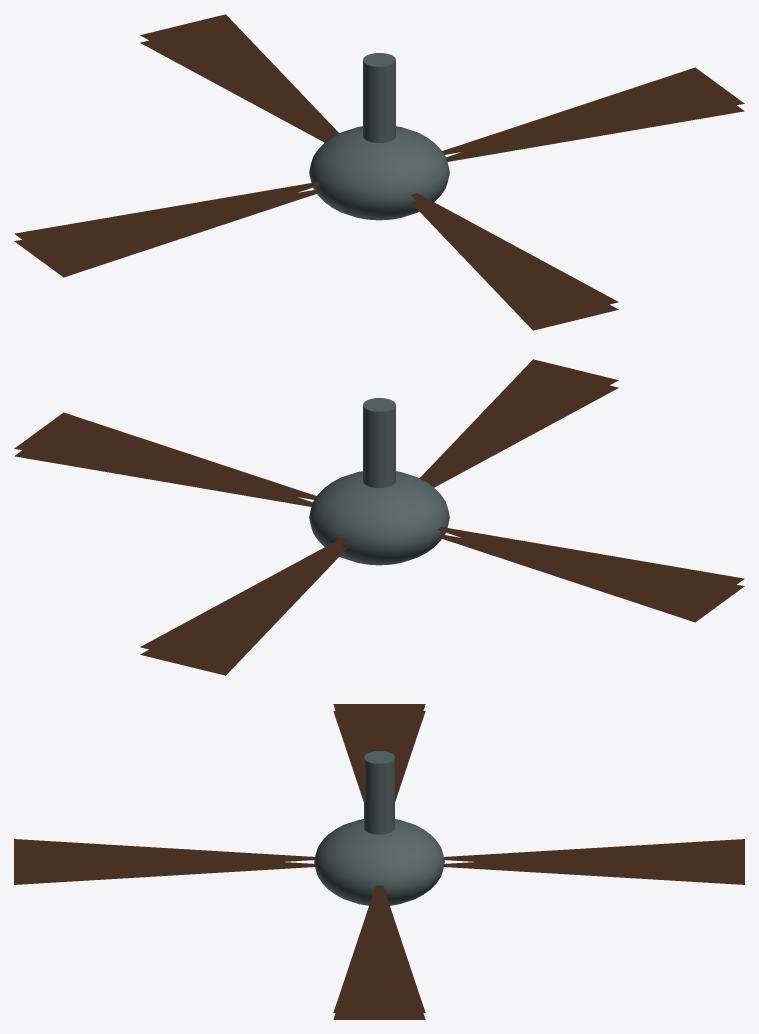
The model's file is Fan.obj.
The picture shows the model from 3 angles, top to bottom: view 1: azimuth 30°, elevation 25°; view 2: azimuth 150°, elevation 25°; view 3: azimuth 270°, elevation 25°; orthographic projection. The views are drawn at different scales.
Parts seen in each view (by area): view 1: Fan; view 2: Fan; view 3: Fan.
Boxes of the visible parts, x1,y1,x2,y2 form: Fan: (14, 14, 744, 330); Fan: (14, 359, 744, 675); Fan: (14, 704, 744, 1019).
Bounding box in the file's own units: 1.9 × 0.4 × 1.9.
